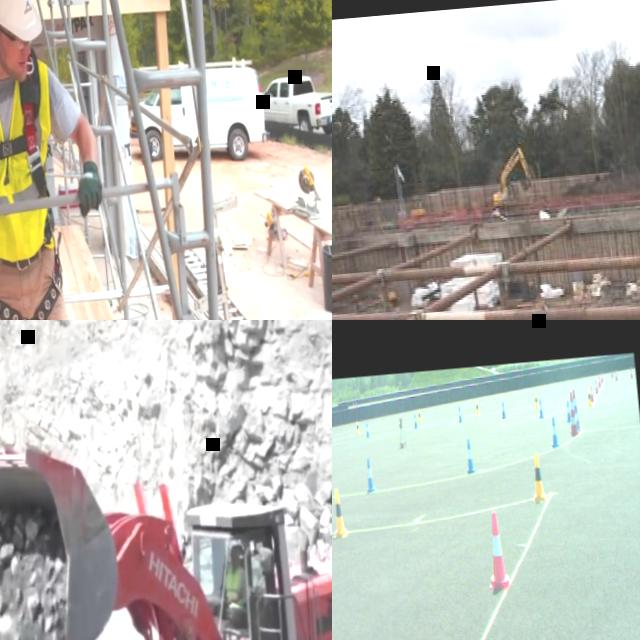Hardhat: (229, 544, 240, 555)
NO-Hardhat: (0, 0, 43, 47)
NO-Mask: (3, 48, 28, 80), (232, 559, 239, 569)
NO-Safety Vest: (0, 56, 64, 260)
Person: (0, 0, 124, 320), (218, 544, 251, 624)
Safety Cone: (482, 511, 511, 591), (529, 454, 546, 502), (332, 487, 346, 538), (566, 392, 578, 434), (463, 438, 475, 472), (364, 458, 375, 492), (549, 417, 560, 447), (572, 388, 580, 428), (564, 399, 570, 422), (574, 405, 579, 431), (537, 399, 543, 418), (586, 388, 592, 406), (500, 401, 505, 418), (457, 406, 462, 422), (364, 422, 369, 438), (533, 392, 538, 408), (417, 408, 422, 422), (474, 400, 479, 414), (590, 384, 594, 400), (594, 378, 598, 394), (413, 412, 417, 427), (355, 420, 359, 434), (629, 366, 633, 377), (598, 374, 601, 386), (614, 368, 617, 379), (600, 372, 603, 382)
Safety Vest: (223, 566, 245, 604)
vehicle: (0, 396, 332, 640), (489, 145, 535, 210), (408, 194, 426, 219)
